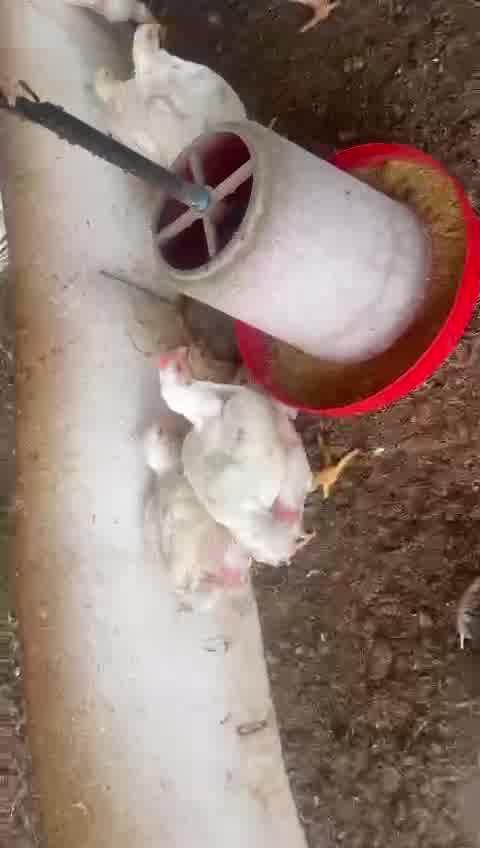Normal: (157, 344, 359, 560), (145, 432, 263, 611), (130, 24, 253, 122)
